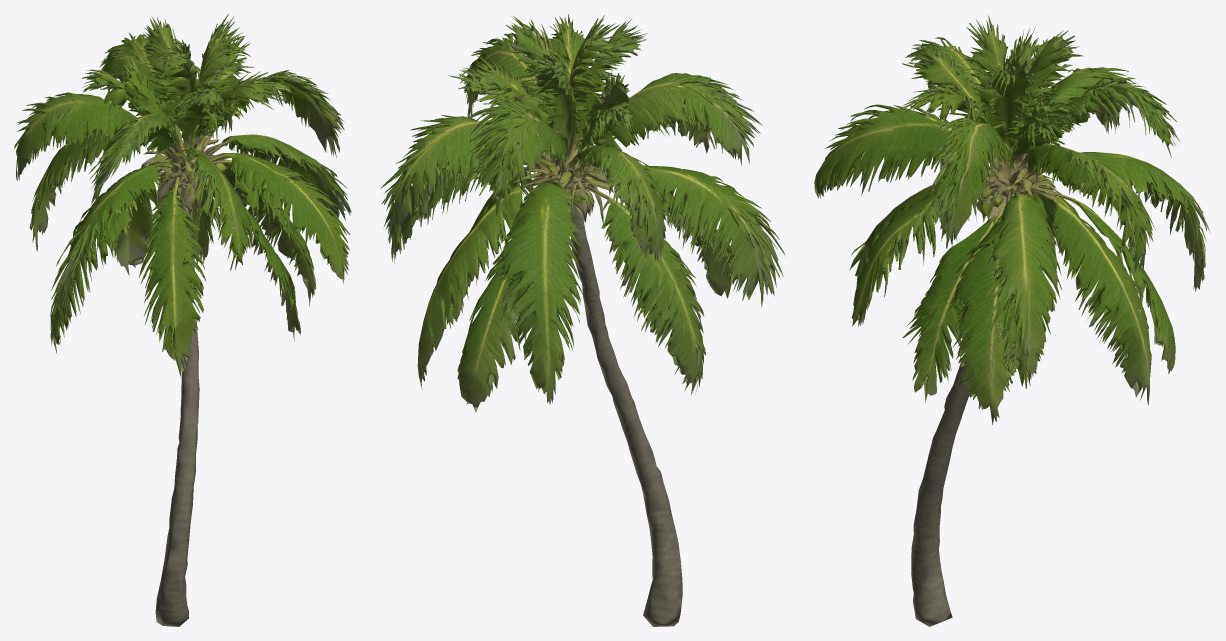
The model's file is palm.glb.
The picture shows the model from 3 angles, left to right: view 1: azimuth 30°, elevation 25°; view 2: azimuth 150°, elevation 25°; view 3: azimuth 270°, elevation 25°; orthographic projection. The views are drawn at different scales.
Size of the model in its own units: 1.17 by 1.9 by 1.1.
1 material, 1 textured.
